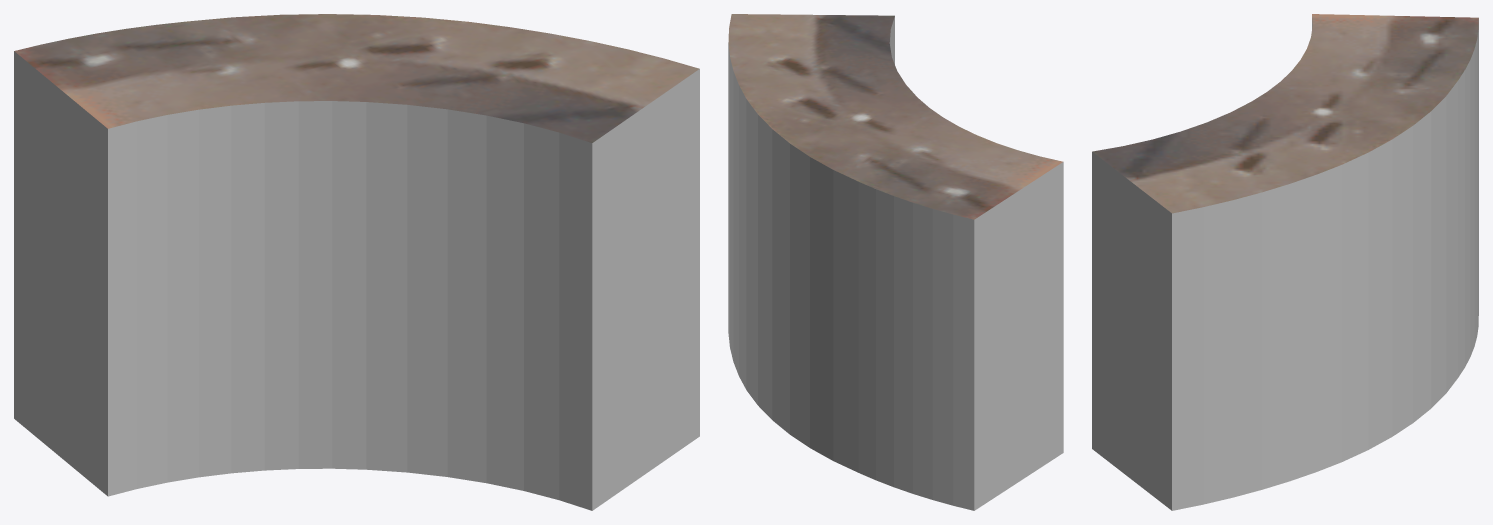
Rendered from DEBW_0010007Tx6I.gltf.
The picture shows the model from 3 angles, left to right: view 1: azimuth 30°, elevation 25°; view 2: azimuth 150°, elevation 25°; view 3: azimuth 270°, elevation 25°; orthographic projection. The views are drawn at different scales.
Parts seen in each view (by area): view 1: Z_UP; view 2: Z_UP; view 3: Z_UP.
Boxes of the visible parts, x1,y1,x2,y2 form: Z_UP: (14,14,699,510); Z_UP: (728,14,1063,510); Z_UP: (1092,14,1478,510).
Size of the model in its own units: 27.57 by 19.17 by 22.58.
Materials: 2 (1 with a texture image).
